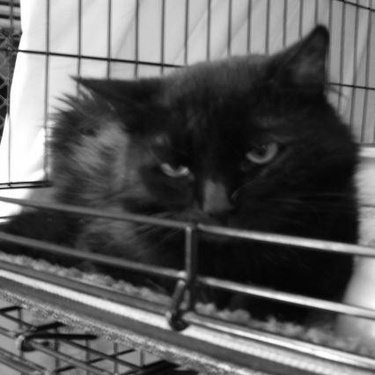cat: (17, 24, 365, 308)
